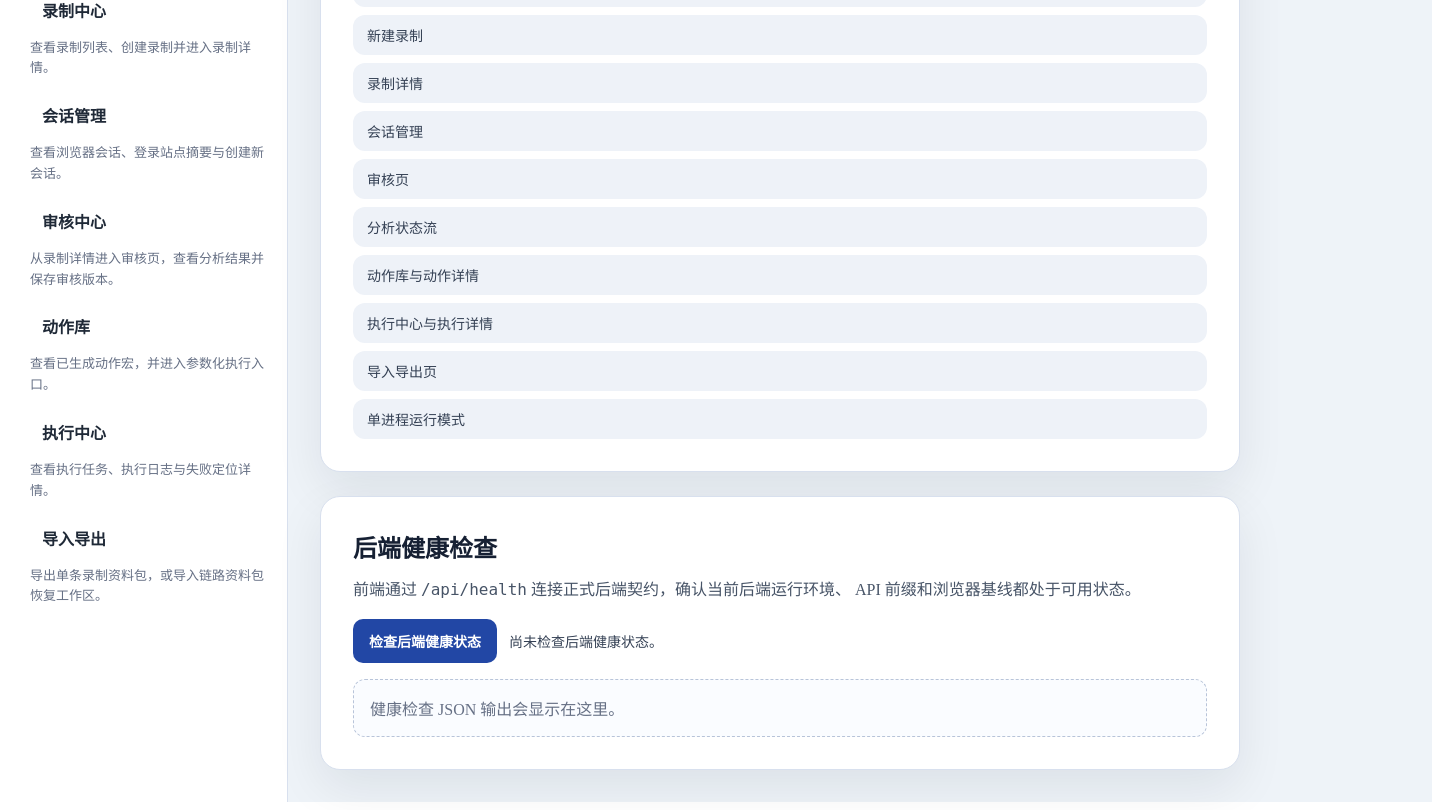
Test: App › shows an error state when backend health check fails
(page scrolled)
What coordinates should you click on to do the following:
click the button "检查后端健康状态"
I would click on:
 (425, 641)
Its box is 353,619 -> 497,663.
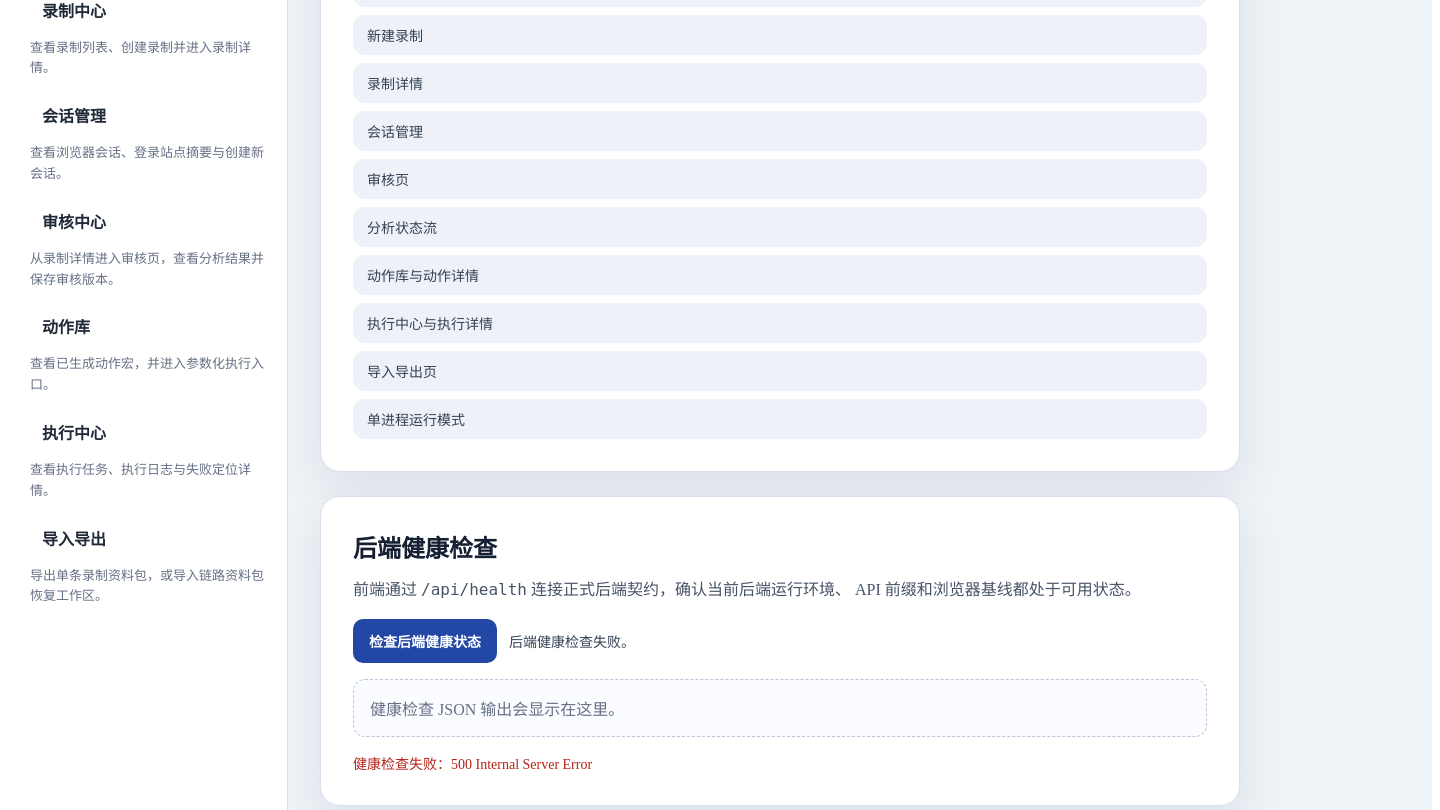
Expected: the text "健康检查 JSON 输出会显示在这里。" is shown, 353,679 -> 1207,737
Now the text "后端健康检查失败。" is shown, box 509,631 -> 635,651
Now the text "健康检查失败：500 Internal Server Error" is shown, box 353,757 -> 592,772
